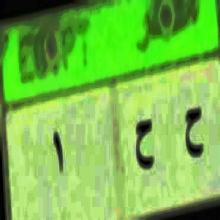1: (49, 125, 68, 180)
7aa: (133, 110, 157, 174), (180, 100, 205, 160)
